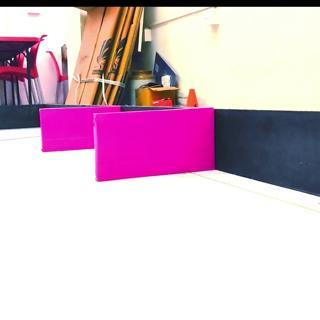xparking: (95, 111, 214, 176), (40, 107, 90, 154)
